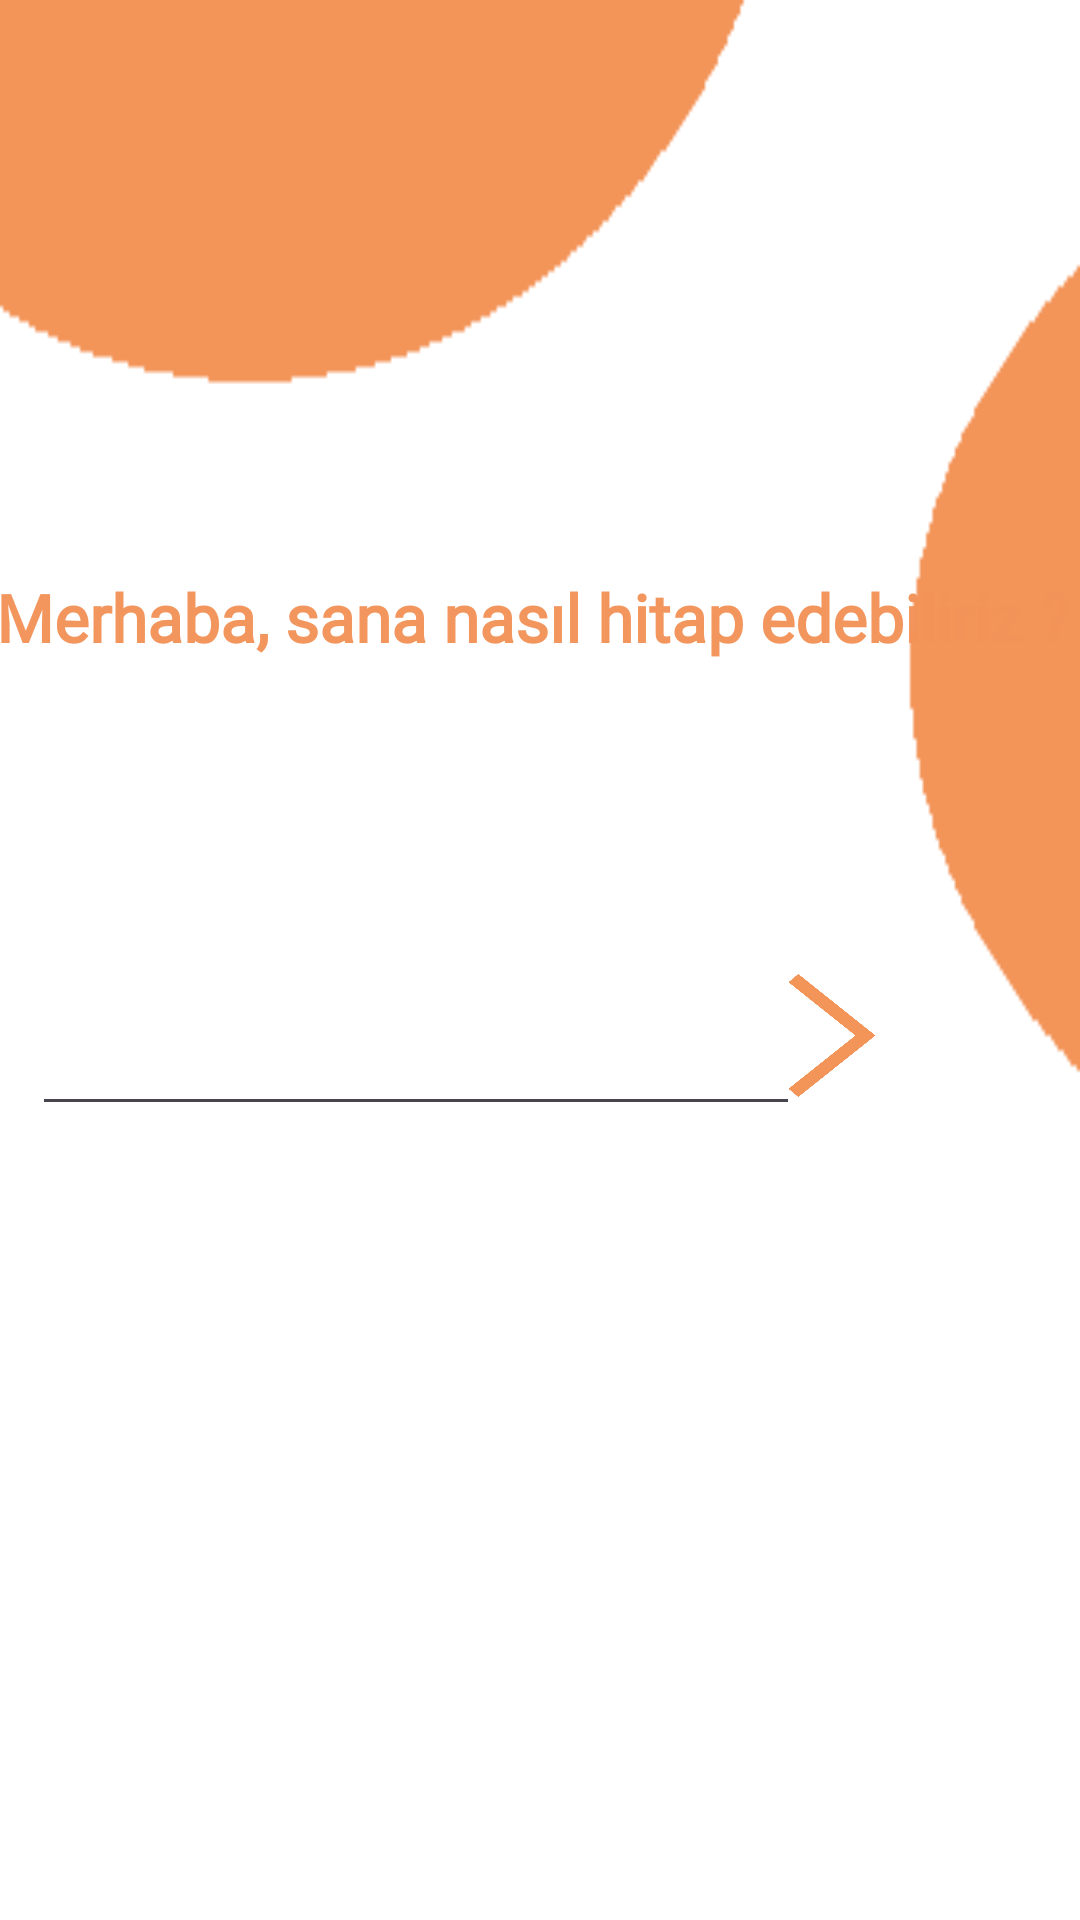

Named icons in this screenshot (1080*1920) and their centers, point (x, y):
next: point (832, 1035)
